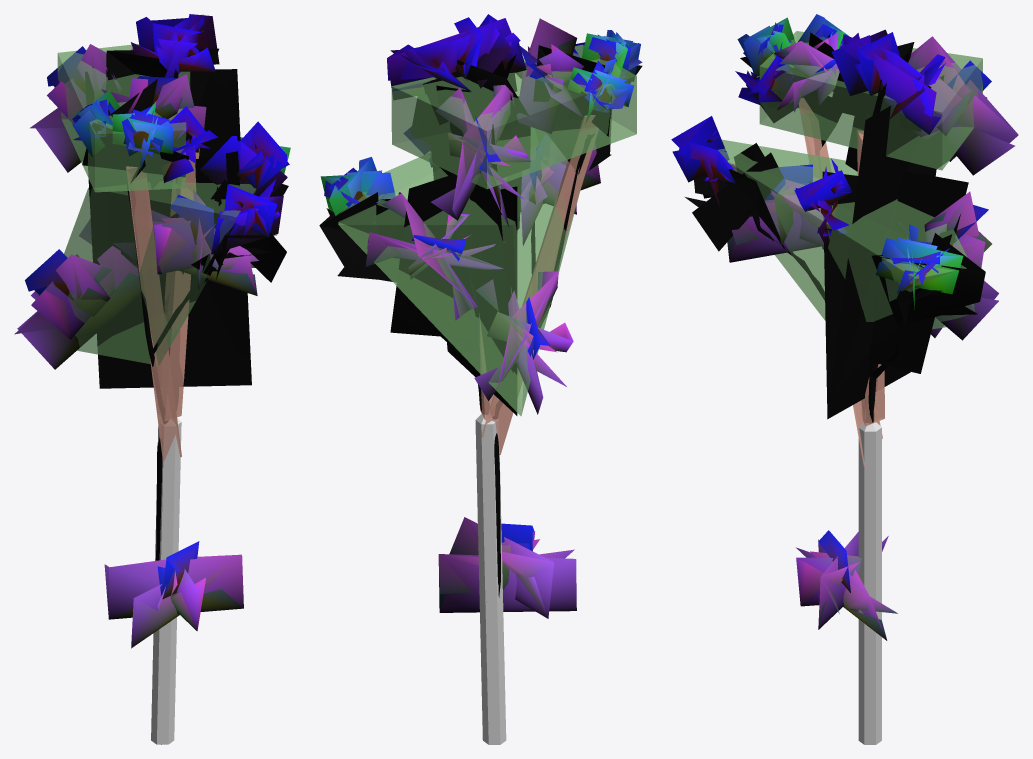
The model's file is holm_oak_filler_2.dae.
The picture shows the model from 3 angles, left to right: view 1: azimuth 30°, elevation 25°; view 2: azimuth 150°, elevation 25°; view 3: azimuth 270°, elevation 25°; orthographic projection.
Visible parts, largest first — view 1: holm_oak_filler_2_b2000, Colmesh-1, holm_oak_filler_2_b500; view 2: Colmesh-1, holm_oak_filler_2_b2000, holm_oak_filler_2_b500; view 3: holm_oak_filler_2_b500, holm_oak_filler_2_b2000, Colmesh-1.
Boxes of the visible parts, left/top/right/bottom form: holm_oak_filler_2_b2000: left=14, top=14, right=289, bottom=744; Colmesh-1: left=57, top=44, right=256, bottom=744; holm_oak_filler_2_b500: left=17, top=14, right=290, bottom=630; Colmesh-1: left=338, top=44, right=636, bottom=744; holm_oak_filler_2_b2000: left=319, top=14, right=642, bottom=617; holm_oak_filler_2_b500: left=320, top=14, right=641, bottom=618; holm_oak_filler_2_b500: left=681, top=18, right=1018, bottom=639; holm_oak_filler_2_b2000: left=671, top=14, right=1018, bottom=640; Colmesh-1: left=681, top=31, right=982, bottom=744.
Bounding box in the file's own units: 4.46 × 5.07 × 11.43.
